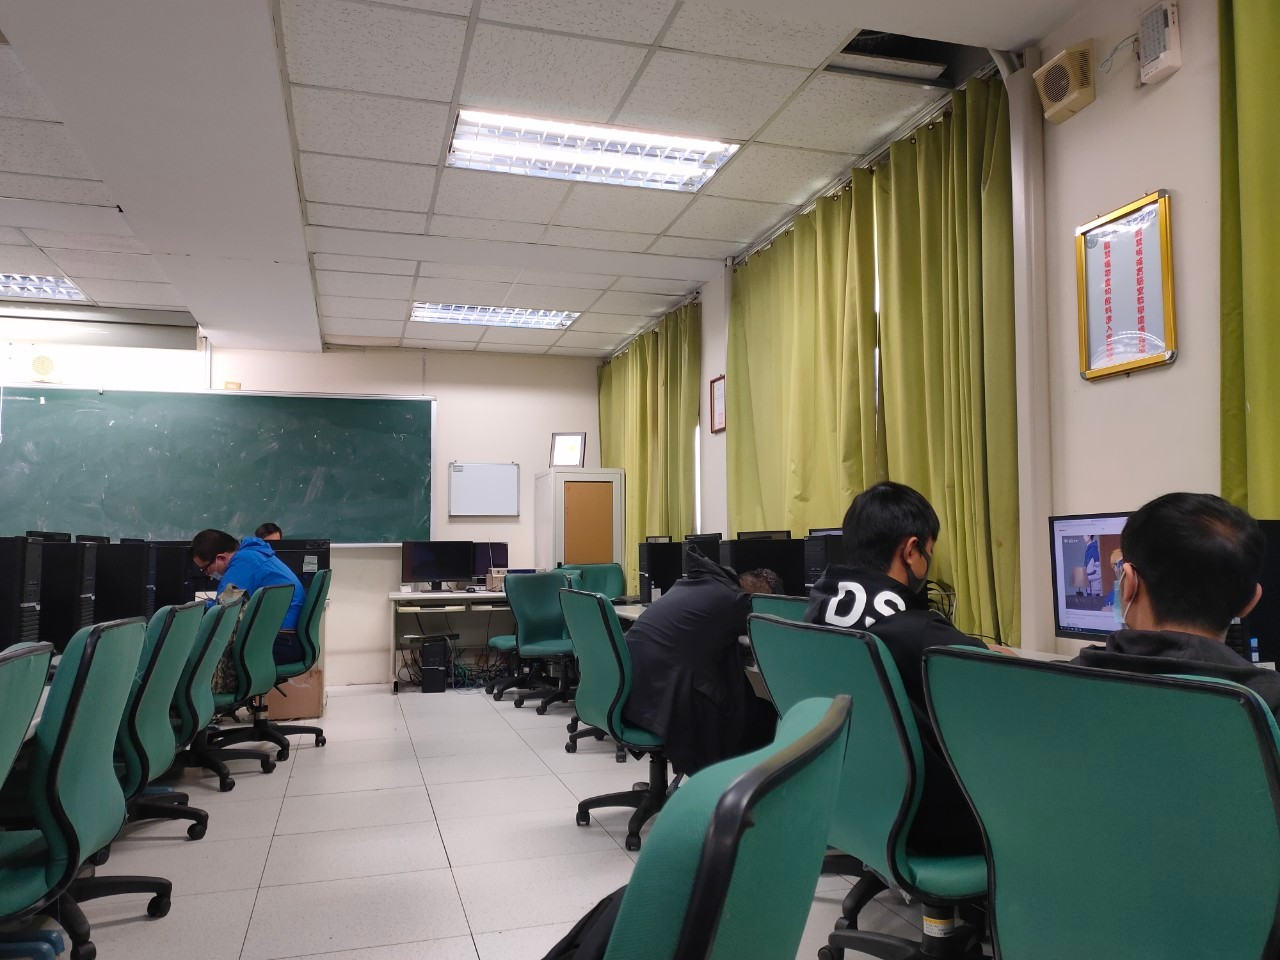people: (804, 478, 1008, 873), (1080, 489, 1275, 753), (624, 544, 789, 760), (184, 522, 313, 673), (258, 517, 286, 540)
